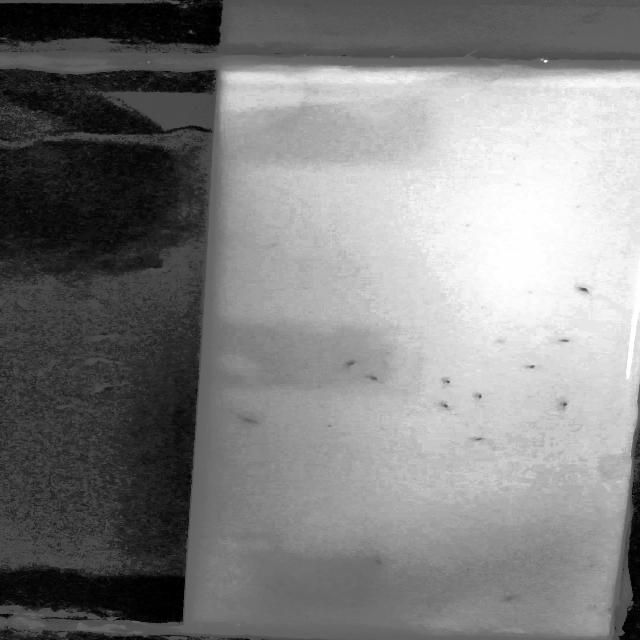shrimp: (572, 282, 597, 298), (338, 359, 366, 372), (473, 391, 491, 403), (436, 399, 453, 411), (518, 360, 540, 369), (556, 400, 574, 411), (360, 373, 381, 382), (370, 558, 390, 567), (438, 378, 457, 387), (467, 434, 486, 442), (501, 593, 517, 600), (241, 417, 259, 423), (556, 338, 572, 344)
